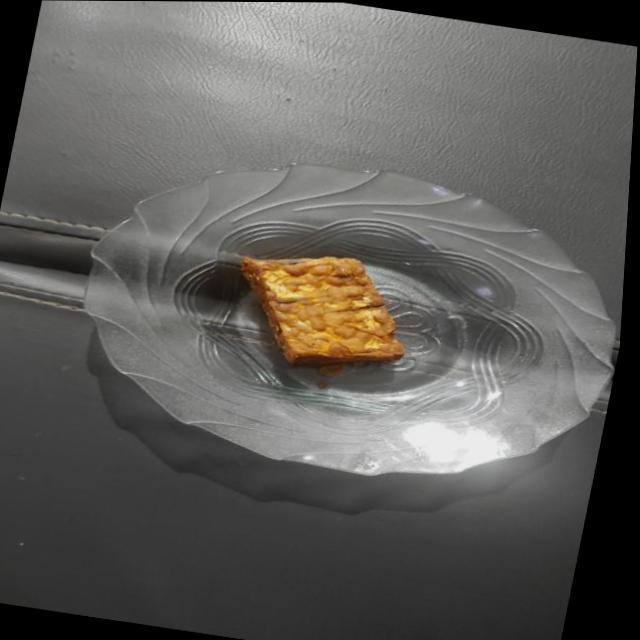tempe_goreng: (242, 256, 404, 364)
